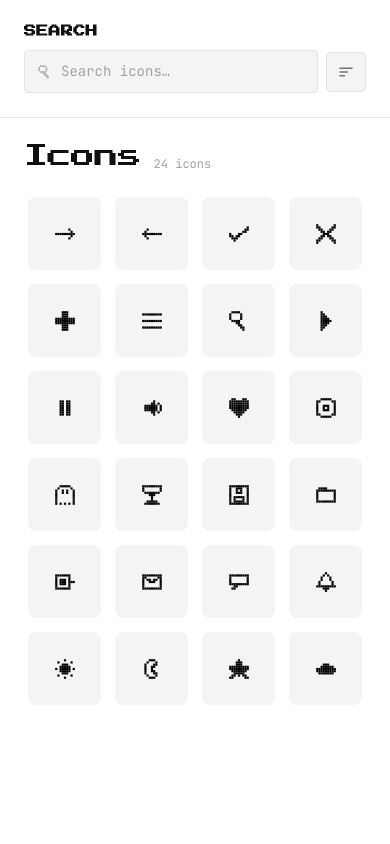
Test: filter sheet › holds category changes as a draft until Apply
Click the button named "Filters".
click(346, 72)  # box [326,52,366,92]
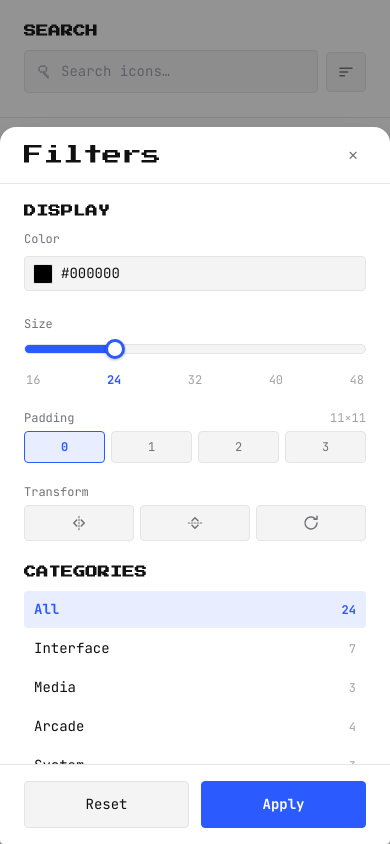
Click the button "Arcade 4".
click(59, 726)  # box [24,708,366,745]
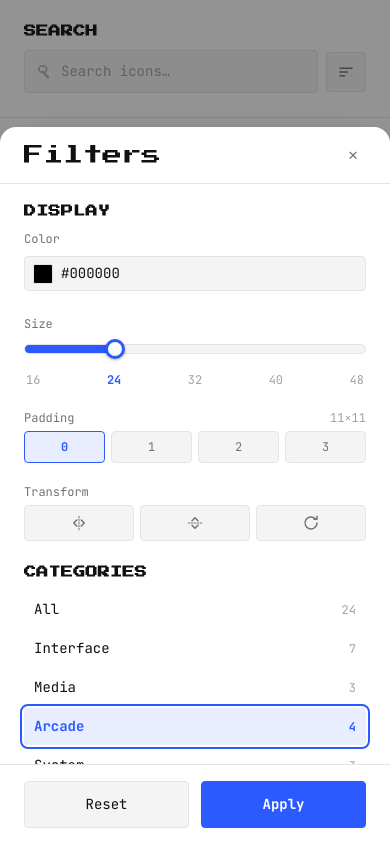
Click the button "Apply".
click(284, 804)  # box [201,781,366,828]
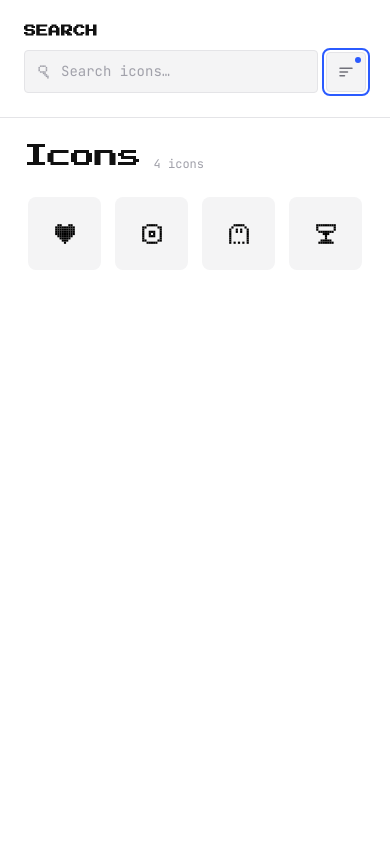
Check: the dialog is gone
